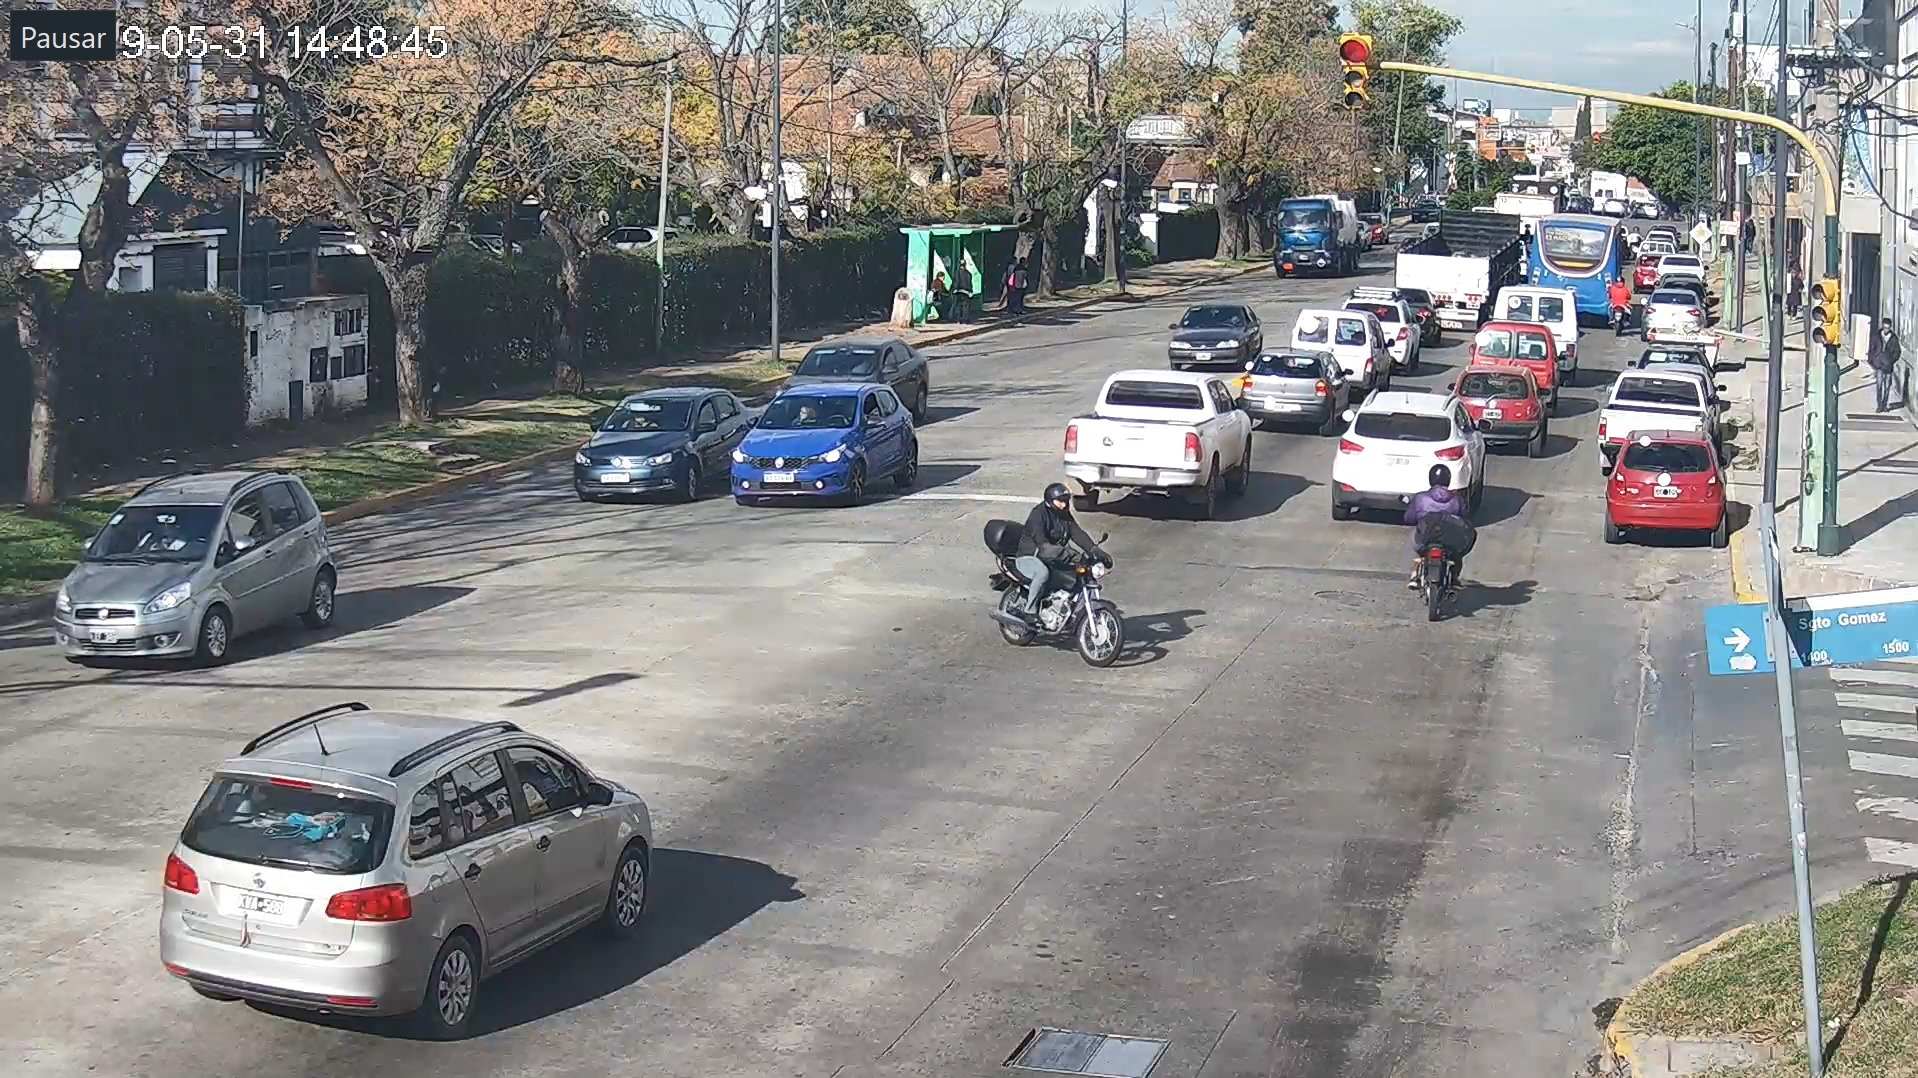car: (161, 701, 652, 1041), (51, 472, 342, 664), (1063, 373, 1259, 514), (725, 382, 919, 509), (1330, 387, 1486, 521), (573, 390, 731, 499), (1593, 427, 1732, 550), (1164, 295, 1259, 362)
motorcycle: (966, 478, 1132, 668), (1396, 464, 1481, 626)
truck: (1265, 196, 1359, 271)
